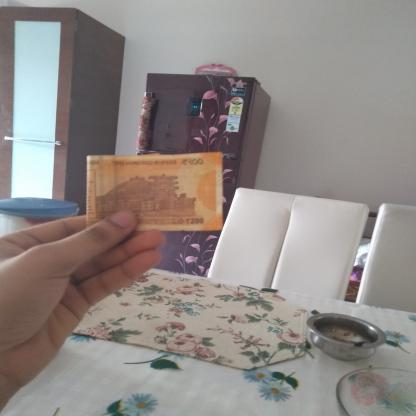New200Back: (86, 154, 224, 230)
